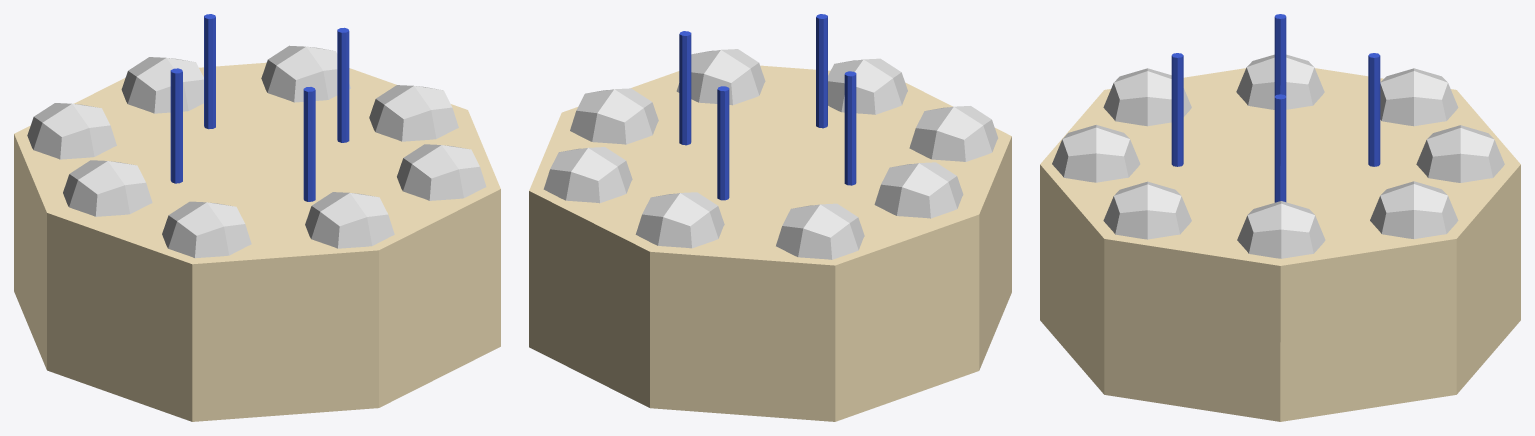
File: cake.fbx
The picture shows the model from 3 angles, left to right: view 1: azimuth 30°, elevation 25°; view 2: azimuth 150°, elevation 25°; view 3: azimuth 270°, elevation 25°; orthographic projection.
Visible parts, largest first — view 1: Plane, Cube.003, Cube.002, Cube.006, Cube.004, Cube.005, Cube, Cube.007, Cube.001, Plane.001, Plane.004, Plane.002 (+1 smaller); view 2: Plane, Cube.001, Cube, Cube.007, Cube.002, Cube.006, Cube.005, Cube.004, Cube.003, Plane.001, Plane.003, Plane.002 (+1 smaller); view 3: Plane, Cube.001, Cube.004, Cube.002, Cube.003, Cube.007, Cube.006, Cube.005, Cube, Plane.004, Plane.003, Plane.002 (+1 smaller).
Part boxes in pixels (x1,y1,x2,y2): Plane: (14, 62, 500, 421); Cube.003: (305, 192, 394, 248); Cube.002: (369, 85, 458, 141); Cube.006: (27, 103, 116, 159); Cube.004: (397, 144, 486, 200); Cube.005: (162, 201, 251, 258); Cube: (63, 160, 152, 216); Cube.007: (261, 45, 350, 102); Cube.001: (121, 57, 203, 113); Plane.001: (170, 68, 182, 183); Plane.004: (303, 87, 315, 201); Plane.002: (337, 27, 349, 142); Plane: (529, 65, 1011, 421); Cube.001: (635, 192, 724, 248); Cube: (874, 162, 963, 218); Cube.007: (543, 147, 632, 203); Cube.002: (570, 88, 658, 144); Cube.006: (776, 203, 864, 259); Cube.005: (909, 106, 998, 161); Cube.004: (676, 49, 765, 105); Cube.003: (828, 58, 907, 114); Plane.001: (844, 71, 856, 185); Plane.003: (717, 86, 729, 200); Plane.002: (679, 31, 691, 145); Plane: (1040, 68, 1520, 421); Cube.001: (1416, 125, 1504, 182); Cube.004: (1103, 181, 1191, 239); Cube.002: (1237, 201, 1325, 258); Cube.003: (1052, 125, 1140, 182); Cube.007: (1370, 181, 1458, 239); Cube.006: (1380, 68, 1458, 126); Cube.005: (1103, 68, 1191, 126); Cube: (1236, 54, 1324, 109); Plane.004: (1171, 53, 1183, 166); Plane.003: (1368, 53, 1380, 166); Plane.002: (1274, 94, 1286, 202).
Size of the model in its own units: 183 by 111 by 183.
